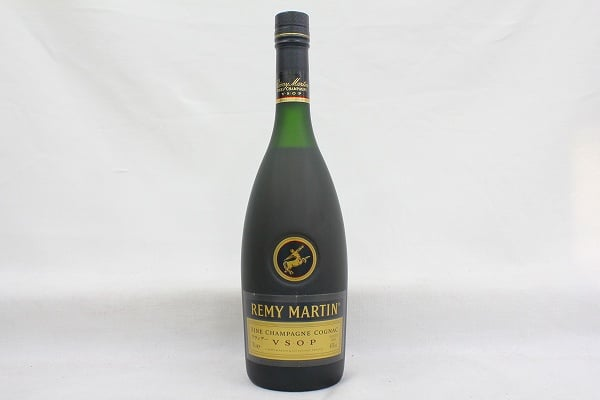Remy Martin: (235, 6, 352, 399)
